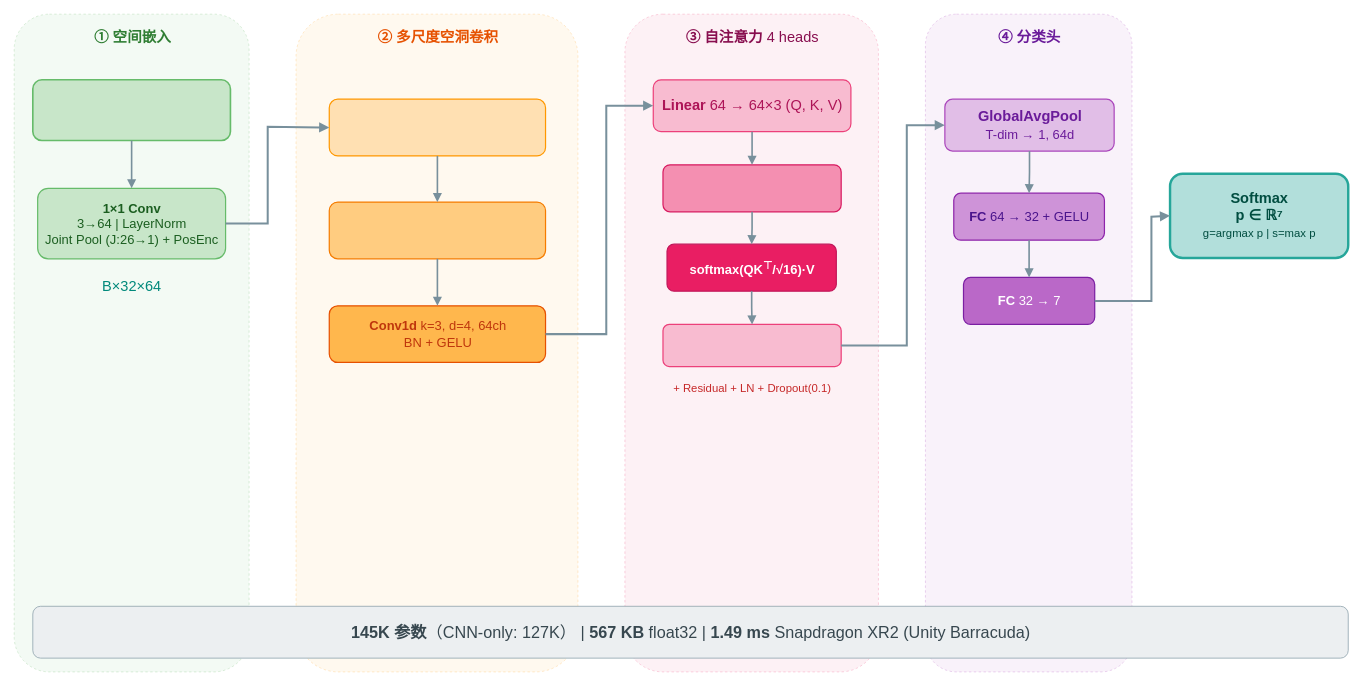
Image size: 1363x686. Some labels were removed from this diagram. Here are the shapes that lost their labels. From the top down, the centre of each, then its label:
At [131,110]: "Input B×32×26×3".
At [437,127]: "Conv1d k=3, d=1, 64ch BN + GELU".
At [751,188]: "4-Head Split 4 × (T×16)".
At [437,230]: "Conv1d k=3, d=2, 64ch BN + GELU".
At [751,345]: "Concat + Project".
